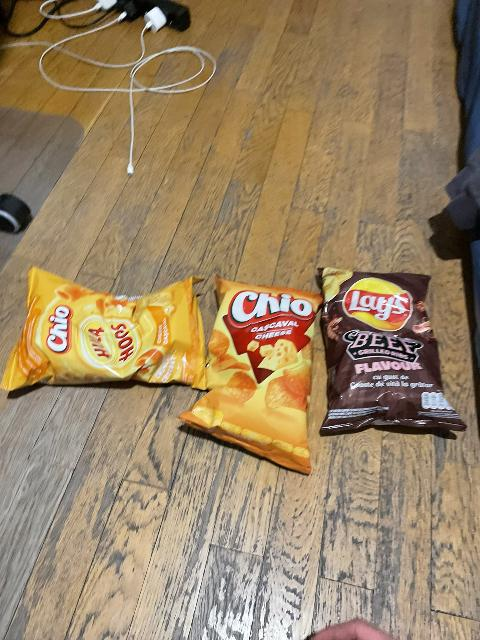Chio Cascaval 125g: (179, 274, 324, 474)
Chio Hula Hoops Cheese 70g: (0, 268, 207, 389)
Lays Beef Grilled Ribs 125g: (319, 269, 467, 436)
